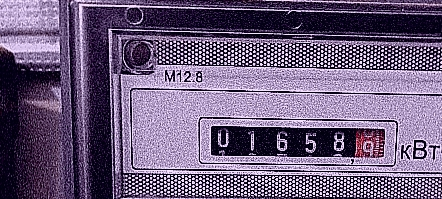0: (216, 126, 229, 148)
1: (246, 129, 256, 151)
5: (303, 130, 317, 153)
6: (274, 129, 288, 151)
8: (331, 129, 345, 151)
9: (359, 138, 373, 159)
screen: (192, 111, 404, 171)
